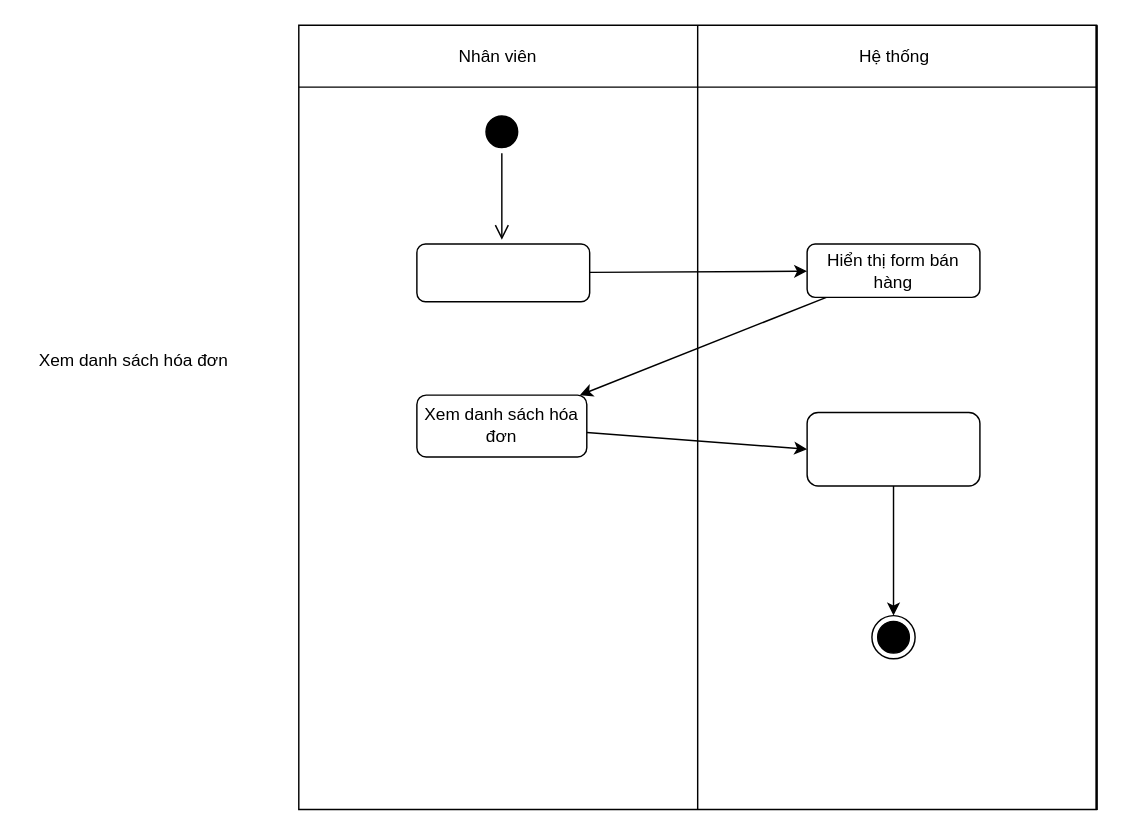
This 1122x835 diagram has some shape labels left out. The centre of each missing label's shape, as x and y in pixels:
"chọn xem bán hàng" goes at pixel 502 272.
"Hiển thị form danh sách hóa đơn" goes at pixel 893 448.
